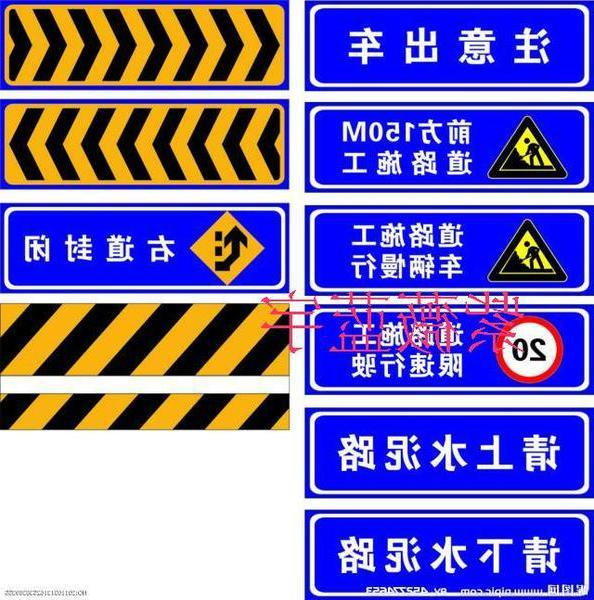sign: (1, 302, 290, 432), (309, 409, 590, 495), (307, 207, 591, 292), (307, 308, 591, 392), (2, 2, 286, 86), (309, 105, 592, 189), (1, 102, 284, 186), (2, 206, 284, 290), (310, 4, 591, 88), (308, 515, 592, 596)
